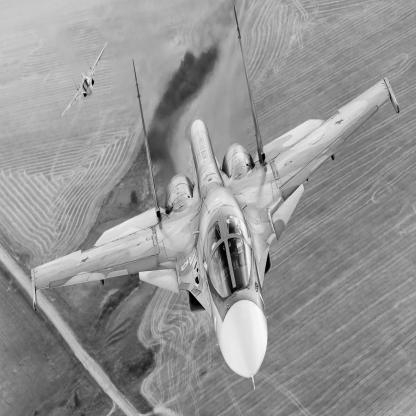Su34: (32, 5, 401, 392), (62, 42, 109, 119)
